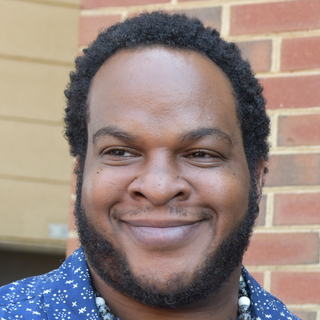eye: (177, 141, 226, 173), (95, 141, 147, 168)
